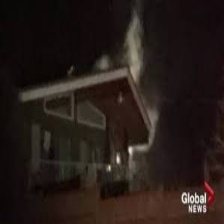smoke: (155, 38, 210, 182)
